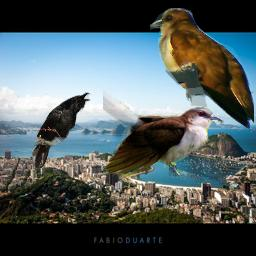Crow: (31, 91, 91, 168)
Cuckoo: (103, 61, 224, 180), (150, 8, 254, 131)
